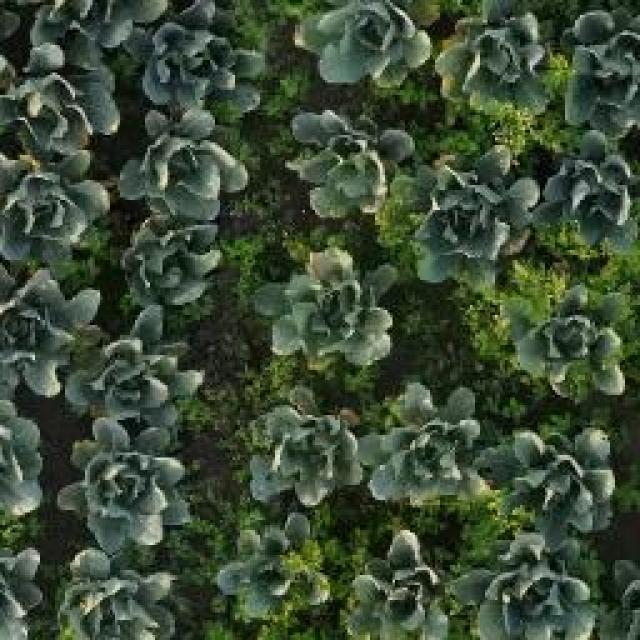cabbage: (358, 384, 500, 514), (412, 145, 536, 289), (64, 305, 206, 417), (435, 0, 566, 116), (288, 107, 414, 222), (0, 143, 113, 267), (65, 418, 177, 538), (475, 535, 601, 640), (278, 242, 390, 360), (520, 287, 632, 405), (219, 514, 336, 625), (130, 100, 240, 218), (137, 17, 266, 116), (292, 0, 431, 91), (509, 422, 617, 538), (351, 527, 460, 640), (0, 42, 123, 142), (540, 128, 640, 249), (0, 275, 100, 396), (54, 546, 181, 640), (246, 401, 363, 499), (119, 215, 226, 316), (562, 1, 640, 137)
